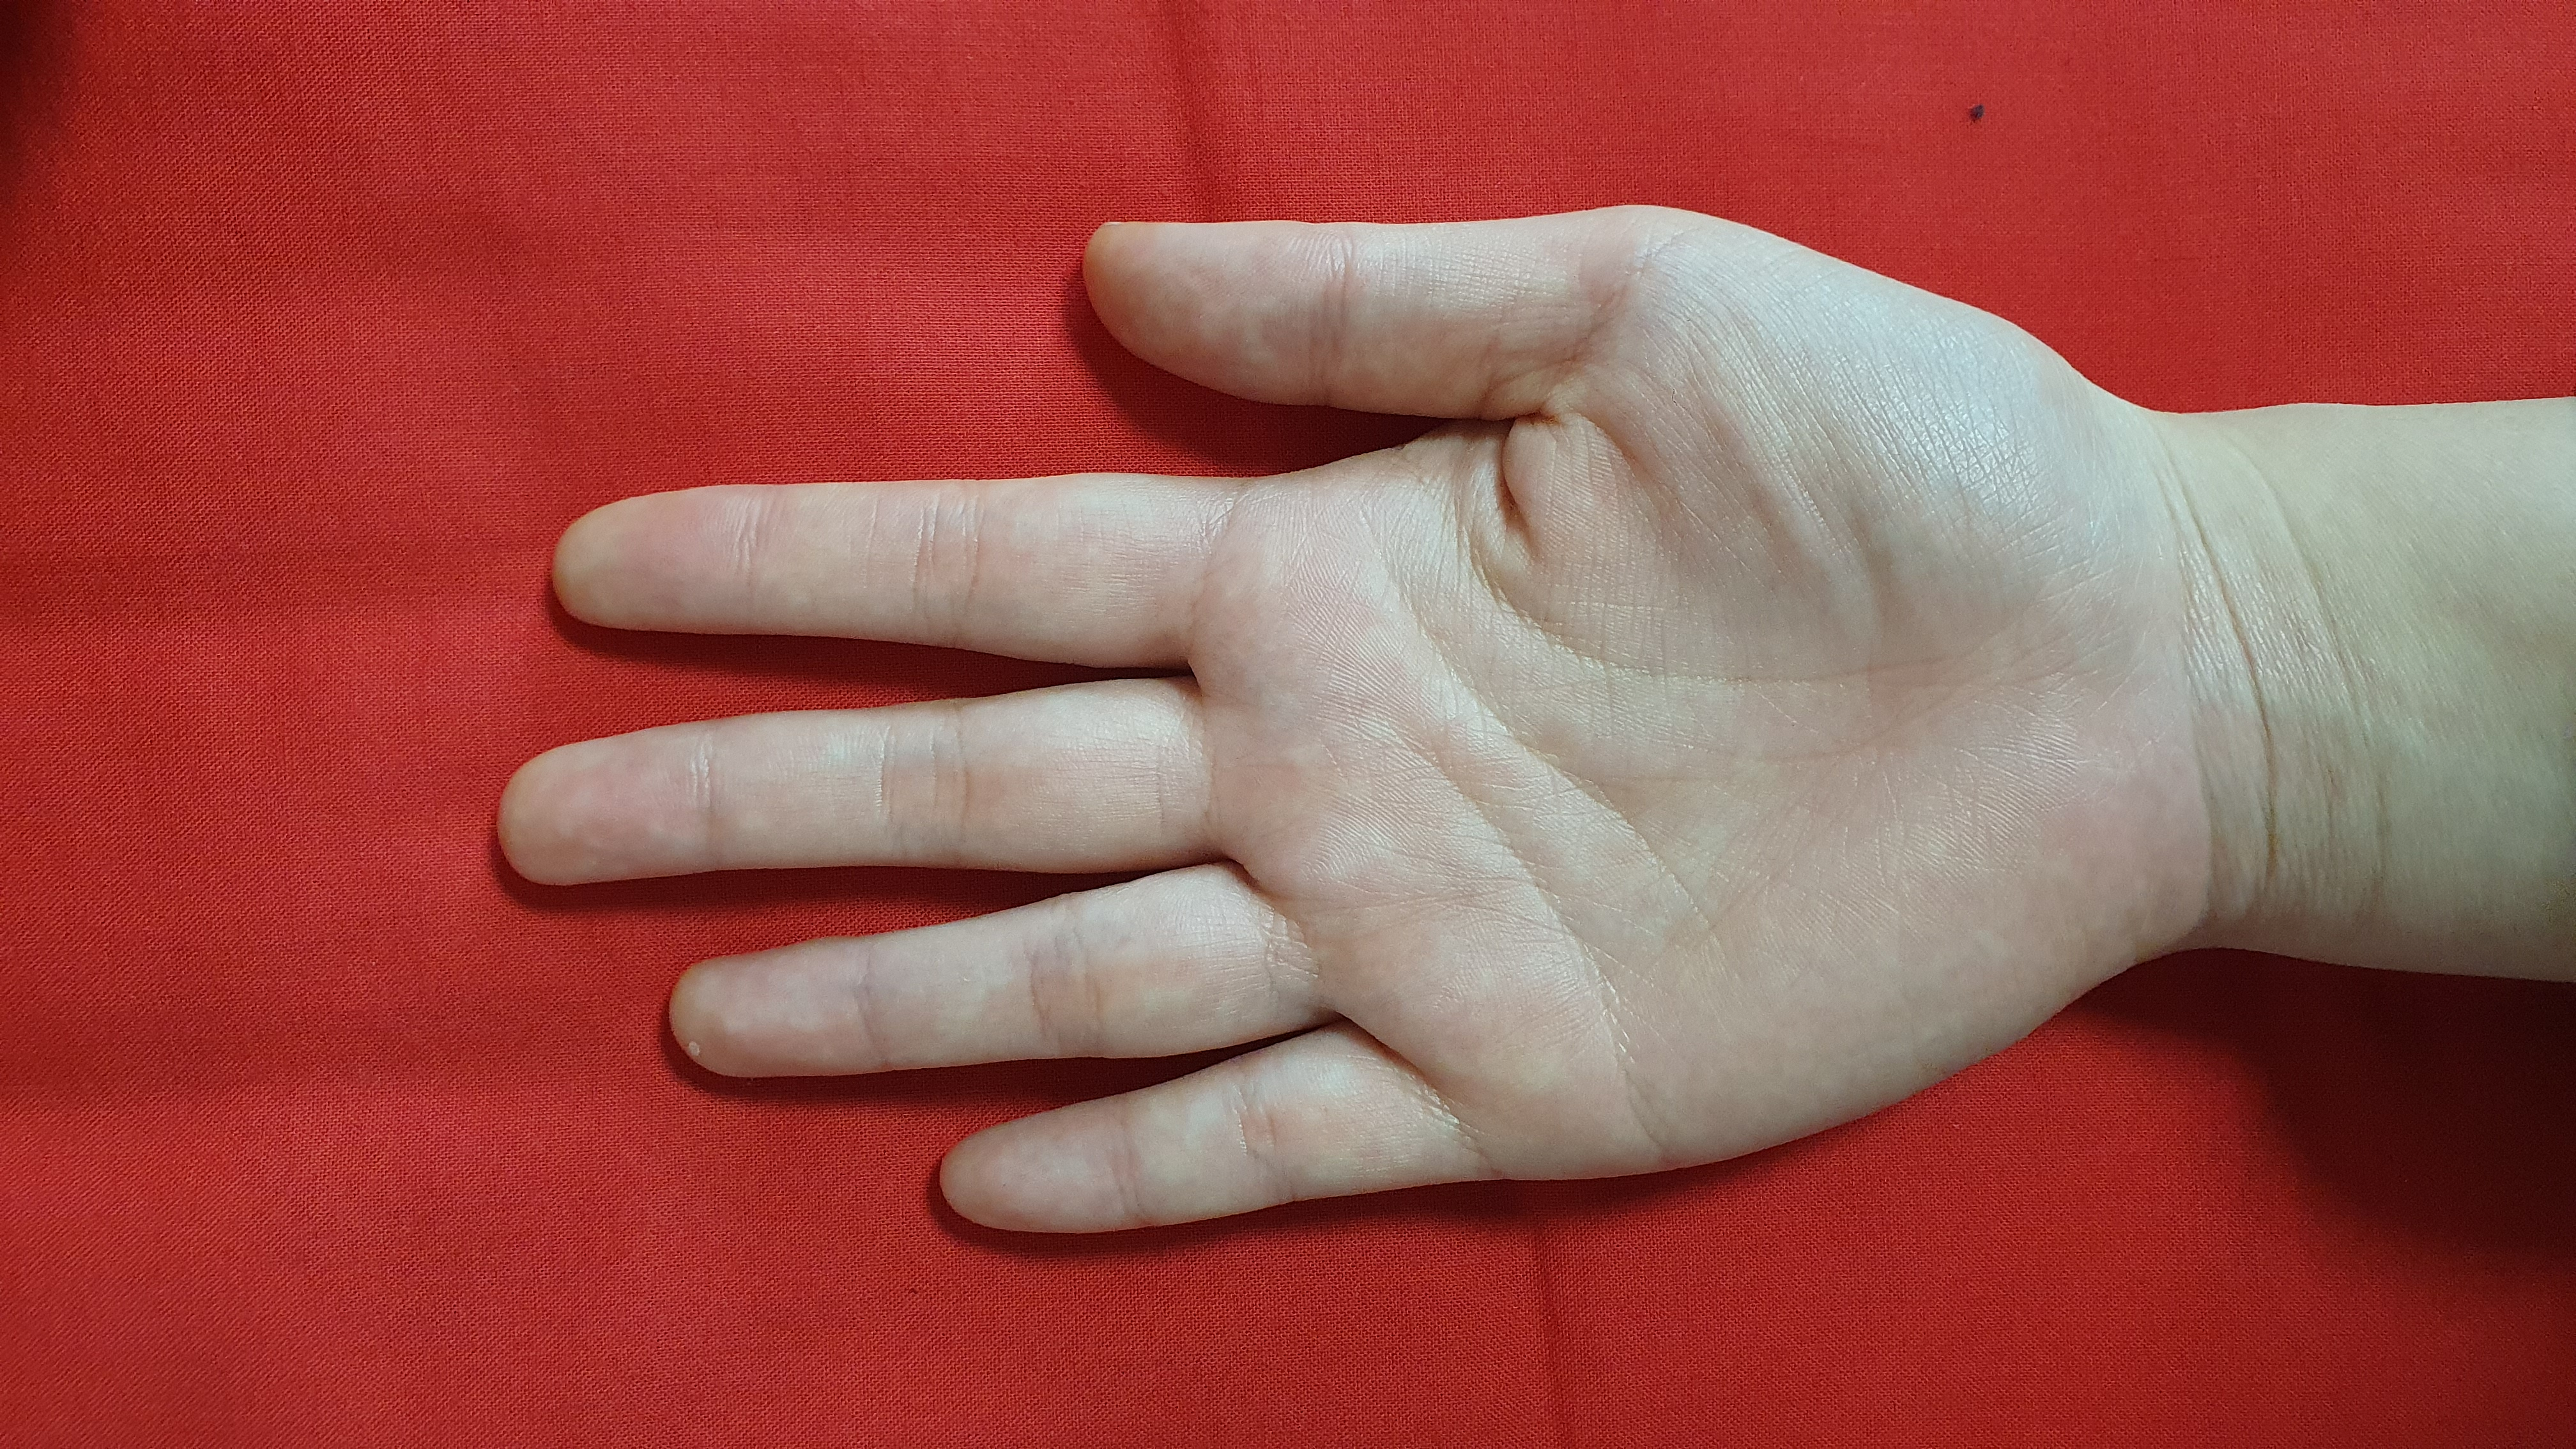hand: (458, 166, 2166, 1249)
index finger: (508, 464, 1256, 672)
middle finger: (492, 660, 1207, 915)
palm: (1277, 370, 2157, 1148)
pinky: (925, 1030, 1477, 1274)
ring finger: (662, 860, 1338, 1097)
thumb: (1074, 193, 1658, 433)
